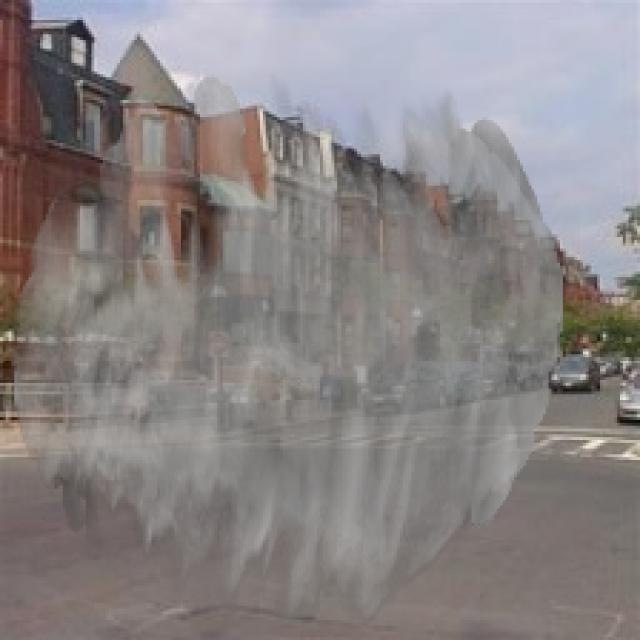smoke: (11, 74, 563, 629)
